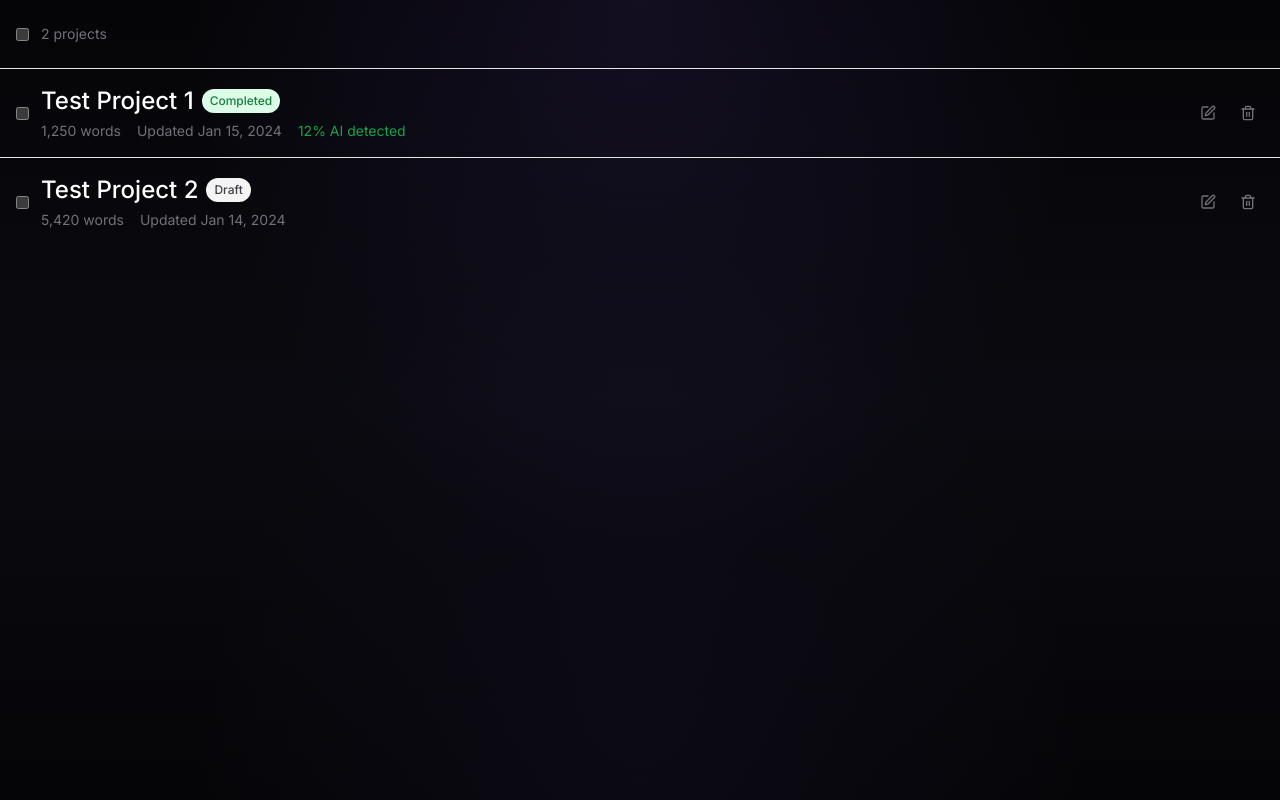
Test: ProjectList › should select individual project when checkbox clicked
Click the checkbox named "Select Test Project 1" at (22, 113), box [16,106,29,120]
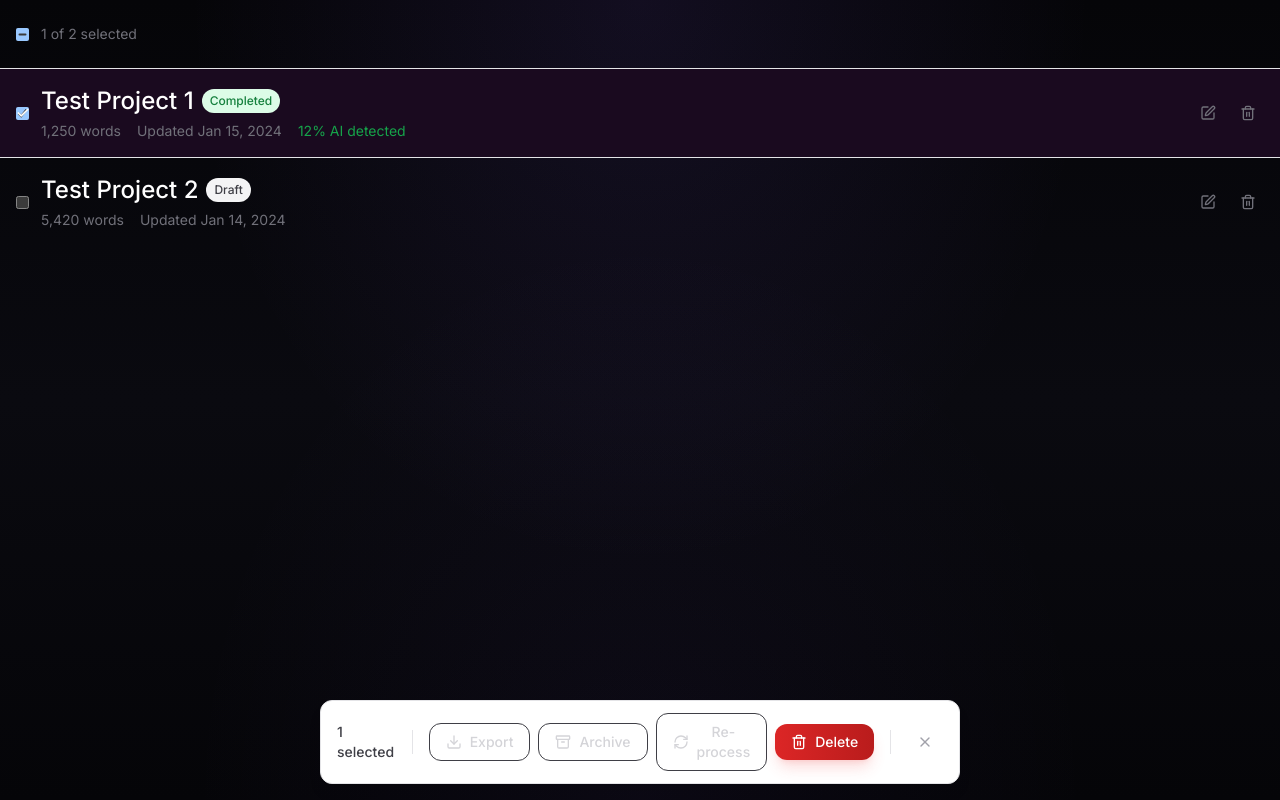
Expected: the text "1 of 2 selected" is shown, [41,24,137,44]
